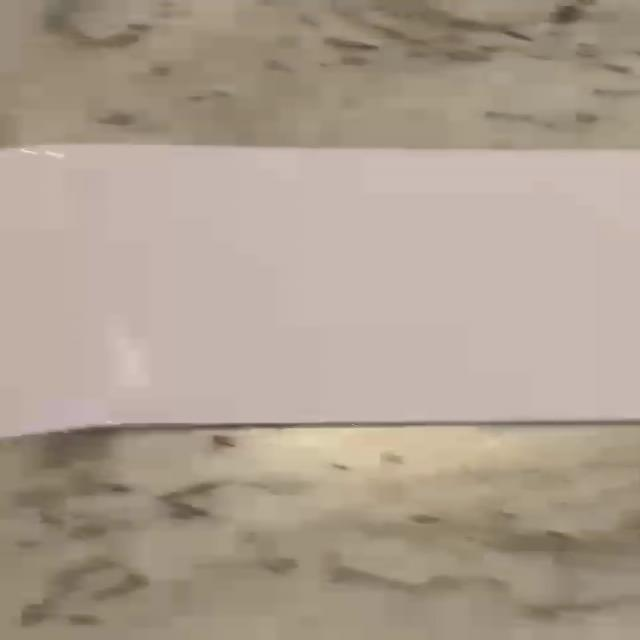road: (1, 145, 640, 435)
